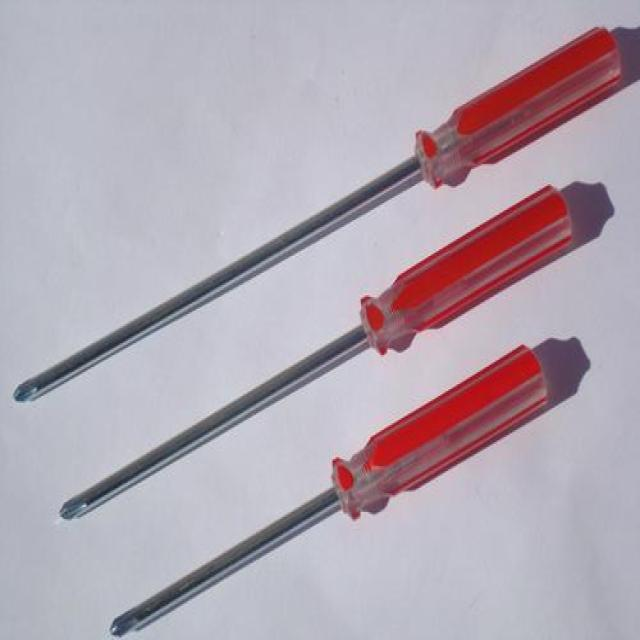Screwdriver: (15, 28, 634, 401), (60, 187, 572, 518), (112, 345, 549, 635)
